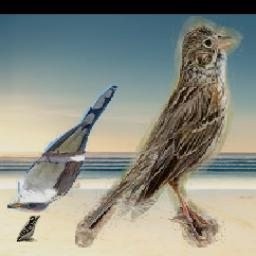Cuckoo: (6, 86, 117, 213)
Sparrow: (74, 17, 242, 248)
Woodpecker: (17, 215, 40, 242)
